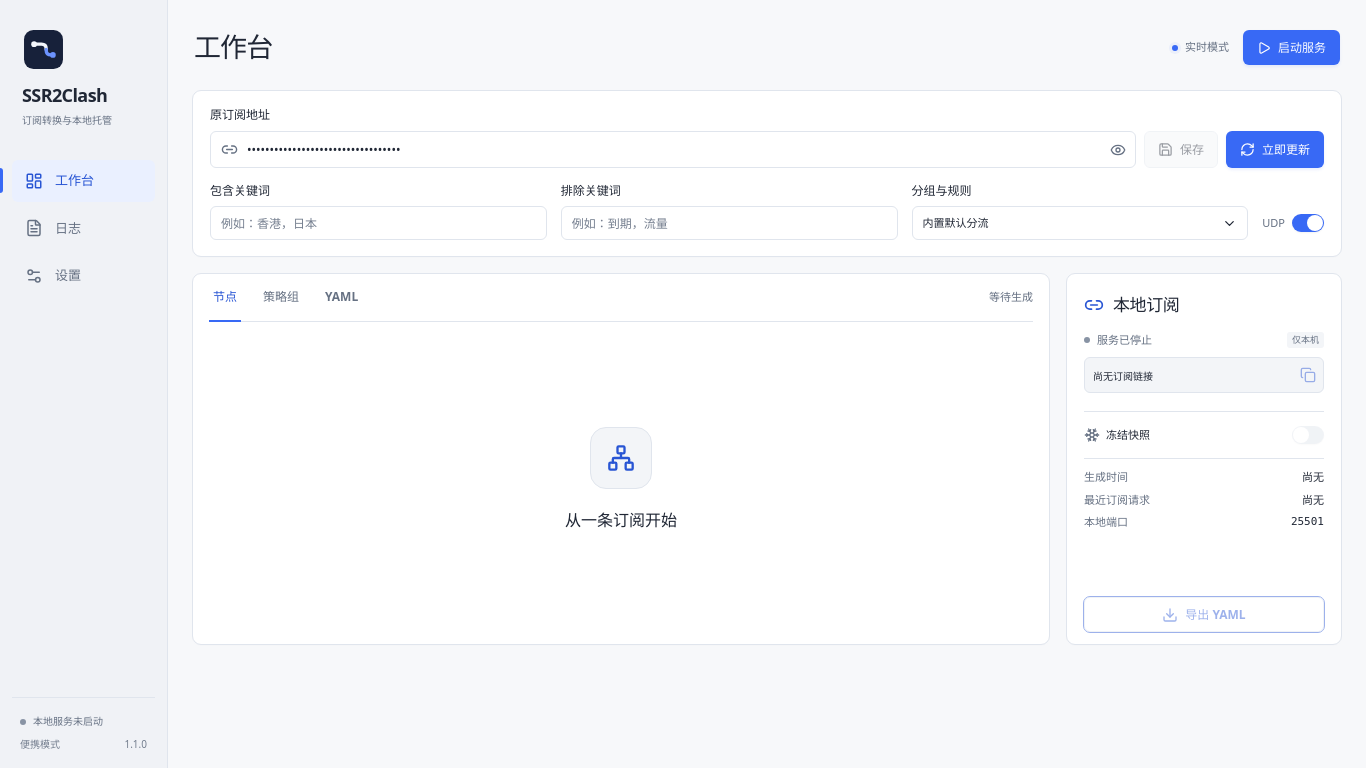
Test case: subscription workbench › shows the upstream failure when no configuration has been generated yet
The image size is (1366, 768).
Step 1. Click the button "立即更新" → {"x": 1275, "y": 150}, box [1226, 131, 1324, 168]
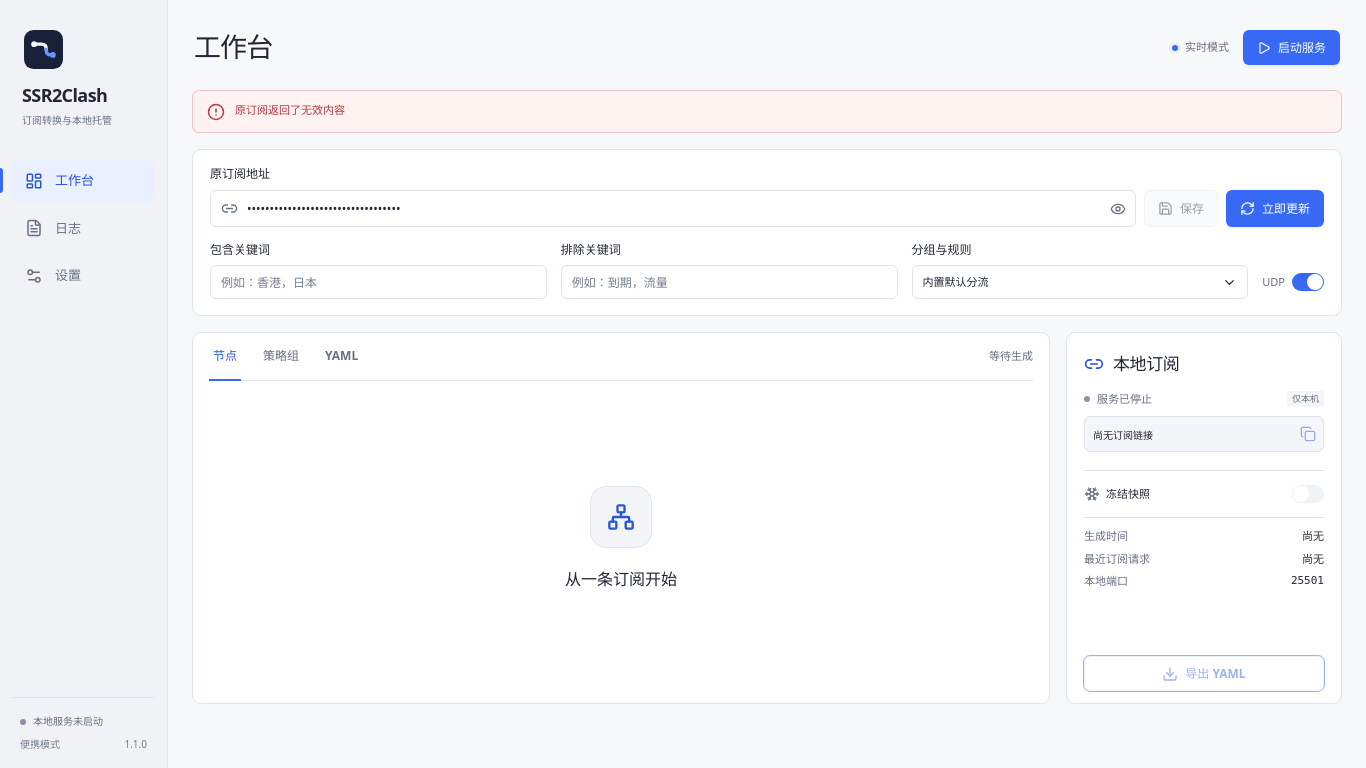
Check: the text "原订阅返回了无效内容" is shown, box [235, 102, 345, 118]
